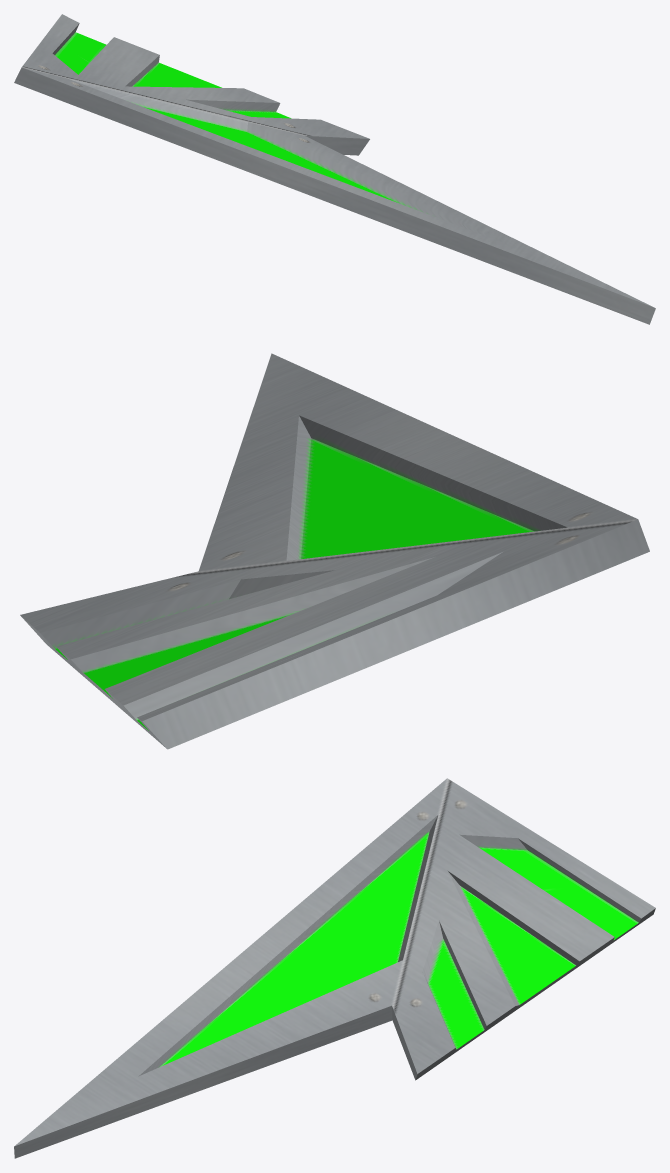
File: X-Jet-2_Debris4.fbx
The picture shows the model from 3 angles, top to bottom: view 1: azimuth 30°, elevation 25°; view 2: azimuth 150°, elevation 25°; view 3: azimuth 270°, elevation 25°; orthographic projection. The views are drawn at different scales.
Visible parts, largest first — view 1: X_Jet_Debris4; view 2: X_Jet_Debris4; view 3: X_Jet_Debris4.
Part boxes in pixels (x1,y1,x2,y2): X_Jet_Debris4: [14, 14, 655, 324]; X_Jet_Debris4: [20, 353, 649, 749]; X_Jet_Debris4: [14, 778, 655, 1158].
Size of the model in its own units: 5.74 by 2.54 by 7.85.
